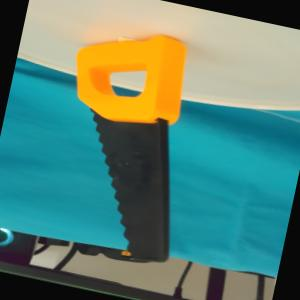serrote: (34, 16, 216, 270)
